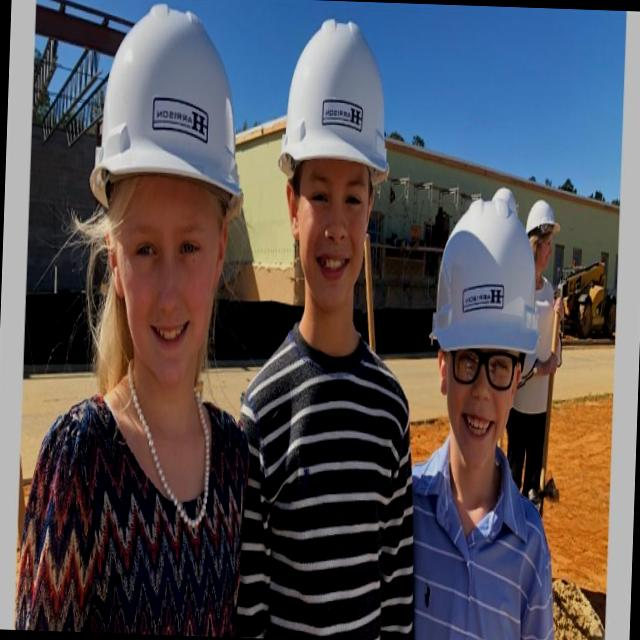helmet: (70, 3, 252, 228), (425, 186, 554, 363), (268, 15, 400, 186)
no-vest: (21, 366, 251, 636), (237, 328, 419, 640), (408, 436, 557, 640)
